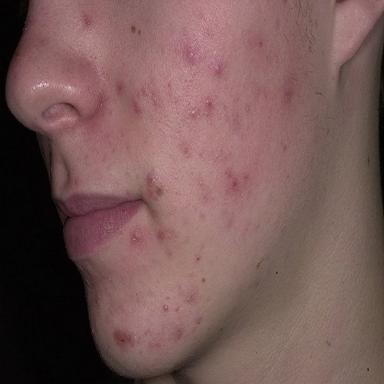acne: (113, 330, 133, 350), (184, 45, 197, 66), (131, 229, 142, 243), (213, 62, 223, 76), (133, 100, 143, 114), (116, 80, 123, 94), (83, 15, 91, 27), (284, 89, 292, 101), (147, 173, 155, 184), (225, 168, 233, 179), (156, 184, 163, 196), (205, 97, 212, 108), (157, 230, 164, 240), (186, 293, 193, 302), (176, 328, 181, 339), (233, 180, 238, 190), (191, 108, 196, 117), (163, 304, 168, 311)
